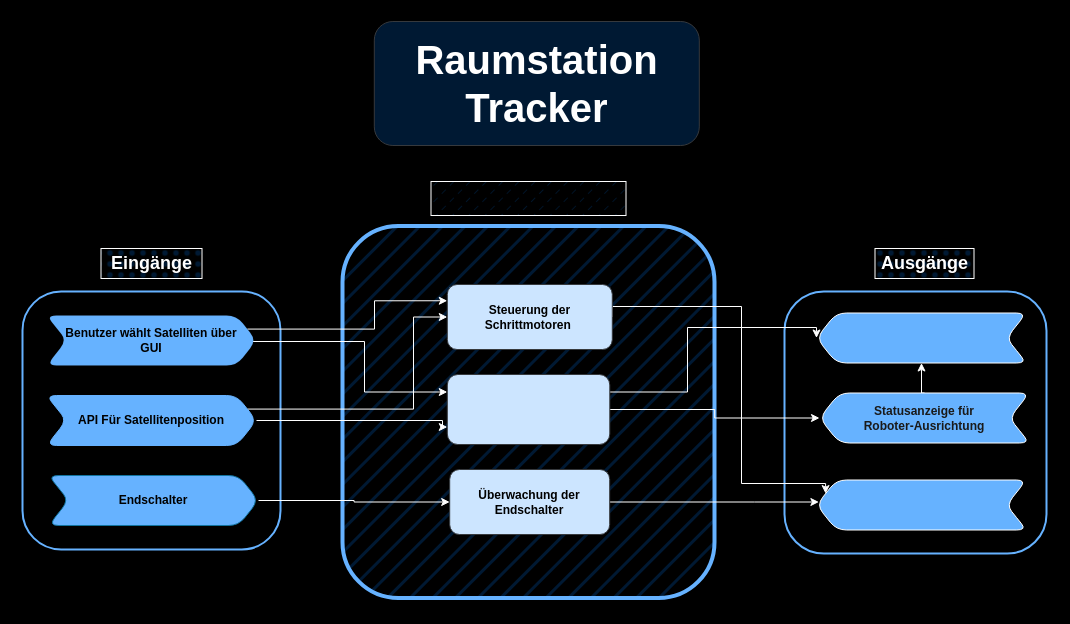
The diagram is 1070 pixels wide and 624 high, and some of its shapes have lost their labels. The shapes that lost their labels are listed below. From the top down, each one's centre as x and y in pixels, then its label:
At point (528, 198): "Systemfunktionalität".
At point (921, 337): "Anzeige der Satellitenposition auf GUI".
At point (528, 409): "Berechnung der Ausrichtung".
At point (921, 504): "Steuerung des Pointers".
